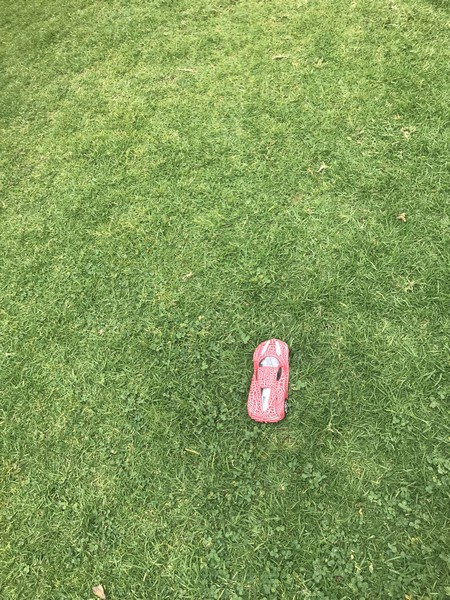RC: (247, 338, 293, 424)
